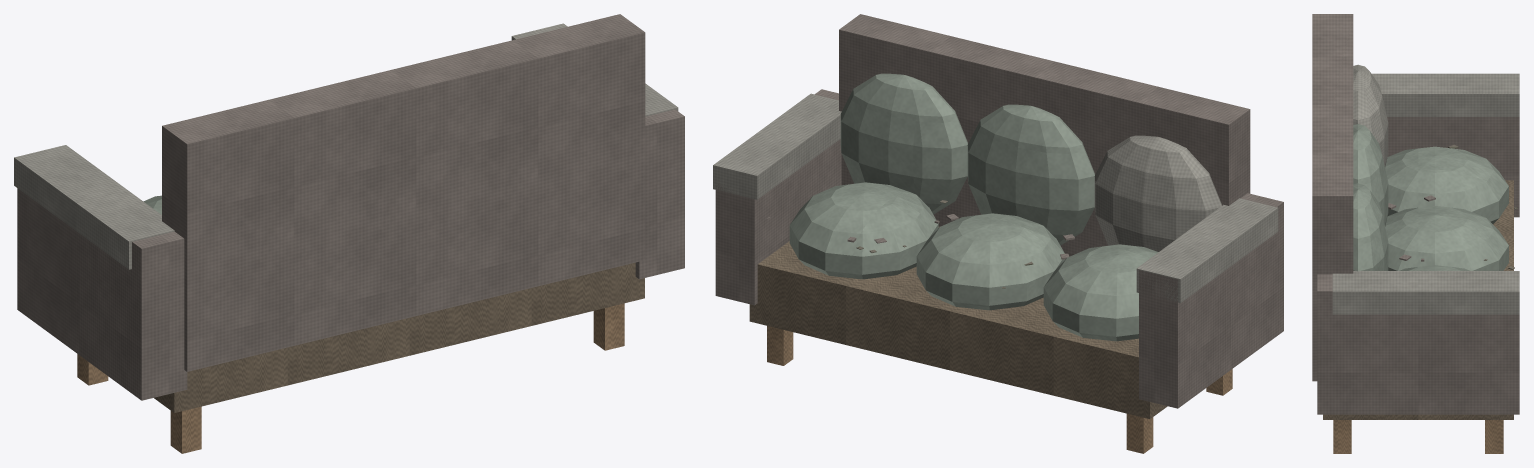
File: sagging_sofa.glb
3 renders of one model, left to right at view 1: azimuth 30°, elevation 25°; view 2: azimuth 150°, elevation 25°; view 3: azimuth 270°, elevation 25°, orthographic. The views are drawn at different scales.
Visible parts, largest first — view 1: InteriorPropGeometry; view 2: InteriorPropGeometry; view 3: InteriorPropGeometry.
Part boxes in pixels (x1,y1,x2,y2): InteriorPropGeometry: (14,14,684,453); InteriorPropGeometry: (713,14,1283,453); InteriorPropGeometry: (1312,14,1519,453).
Size of the model in its own units: 2.65 by 1.48 by 1.06.
6 materials, 6 textured.
